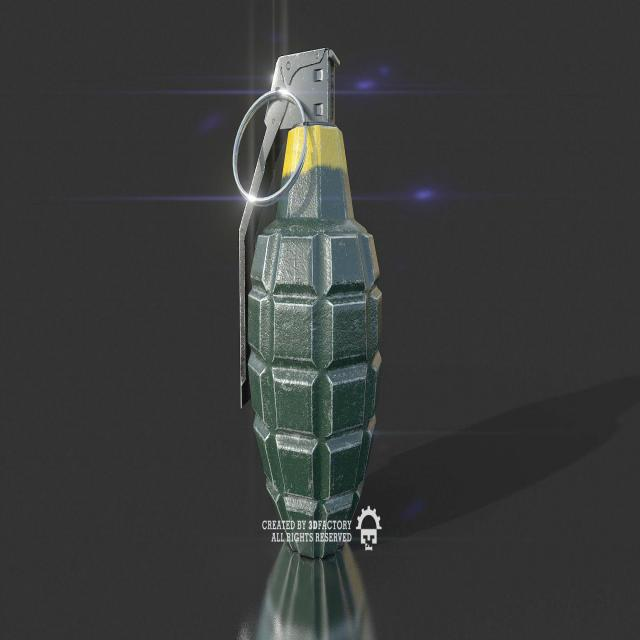grenade: (234, 50, 383, 557)
